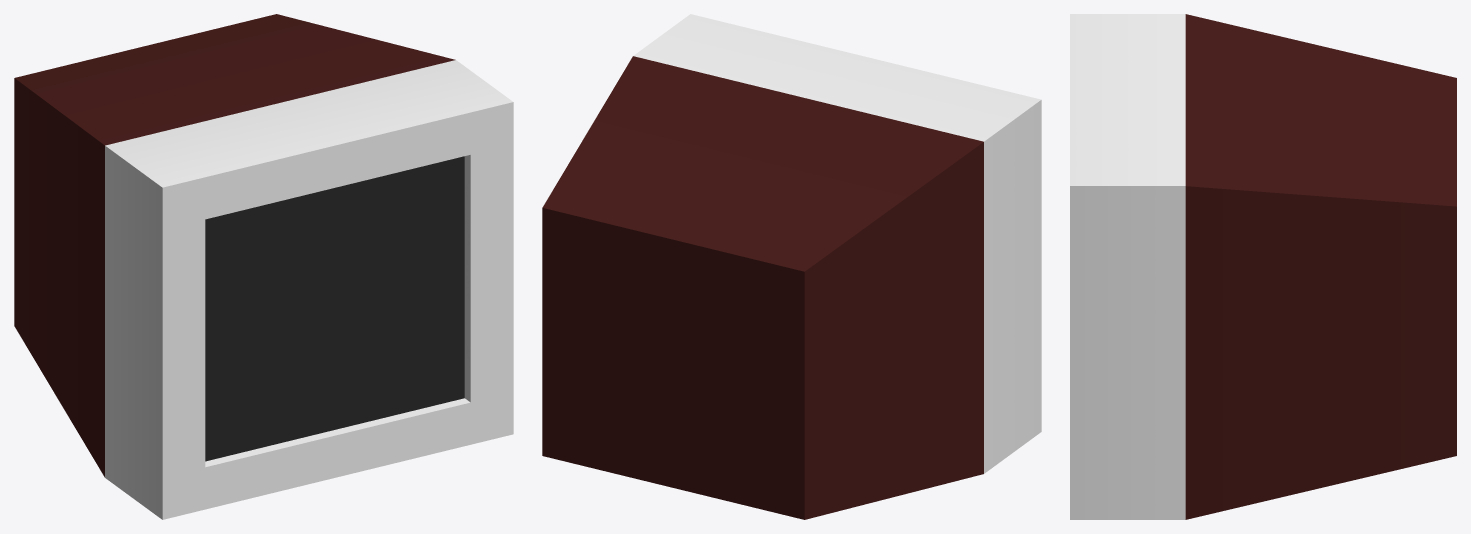
The model's file is Itr_Obj_Monitor_CRT_Screen_Off_02.FBX.
3 views of the same model, side by side, from view 1: azimuth 30°, elevation 25°; view 2: azimuth 150°, elevation 25°; view 3: azimuth 270°, elevation 25° (orthographic).
Visible parts, largest first — view 1: Itr_Obj_Monitor_CRT_Screen_Off_02; view 2: Itr_Obj_Monitor_CRT_Screen_Off_02; view 3: Itr_Obj_Monitor_CRT_Screen_Off_02.
Part boxes in pixels (x1,y1,x2,y2): Itr_Obj_Monitor_CRT_Screen_Off_02: [14, 14, 513, 519]; Itr_Obj_Monitor_CRT_Screen_Off_02: [542, 14, 1041, 519]; Itr_Obj_Monitor_CRT_Screen_Off_02: [1070, 14, 1456, 519].
Bounding box in the file's own units: 20.38 × 18.44 × 19.36.
